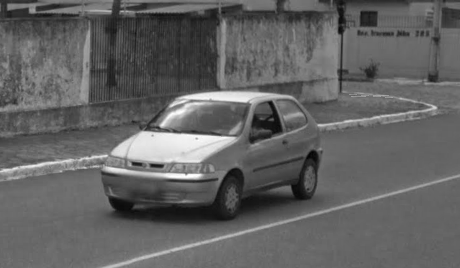car: (96, 85, 327, 224)
